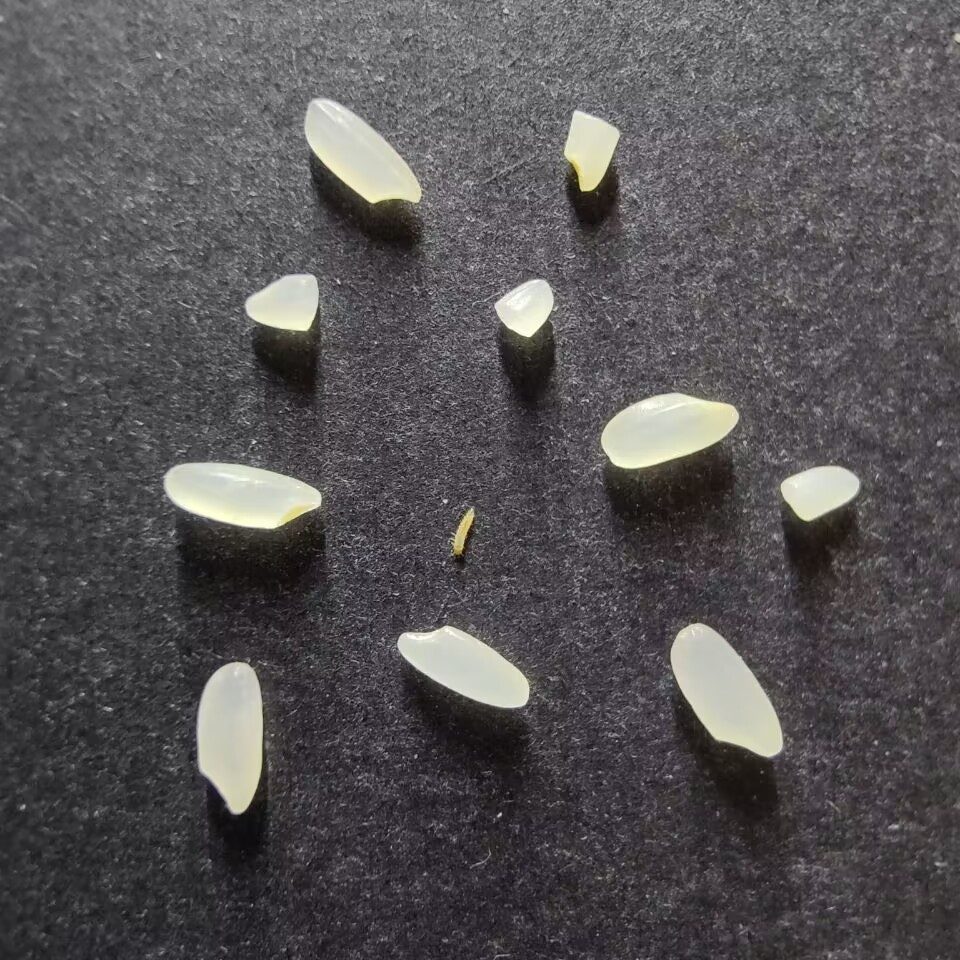broken: (778, 464, 860, 523), (563, 110, 619, 191), (242, 273, 318, 331), (494, 278, 554, 338)
others: (448, 502, 479, 560)
rice: (668, 622, 783, 758), (304, 97, 421, 205), (395, 625, 531, 709), (163, 461, 322, 530), (599, 391, 739, 469), (194, 660, 263, 815)
